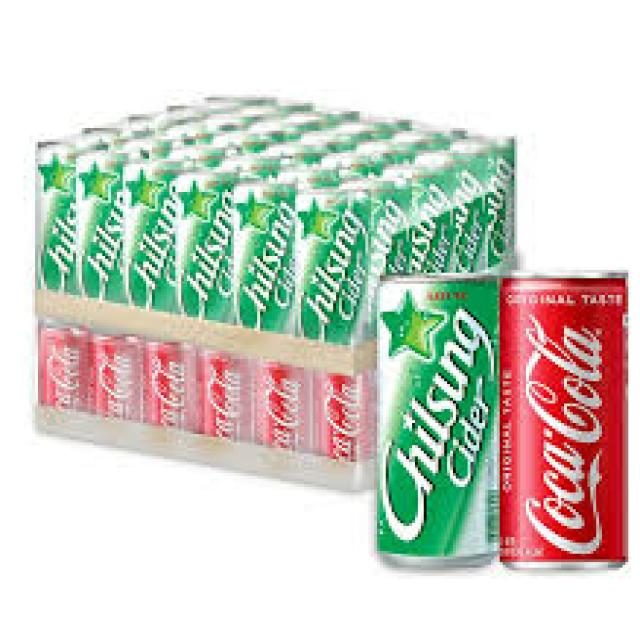Coca-Cola: (499, 261, 632, 582)
